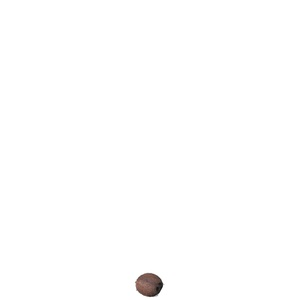coco: (136, 274, 163, 297)
